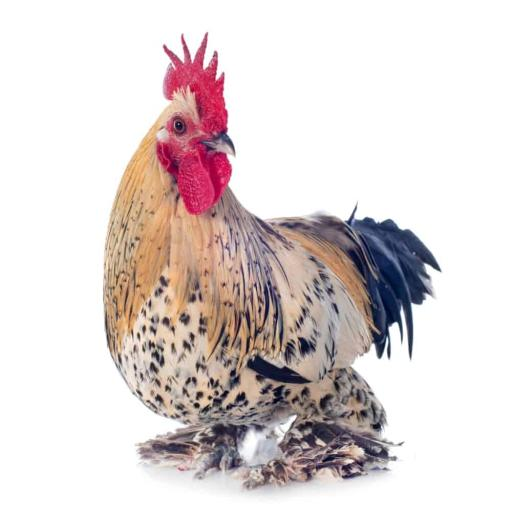healthy: (142, 30, 258, 216)
